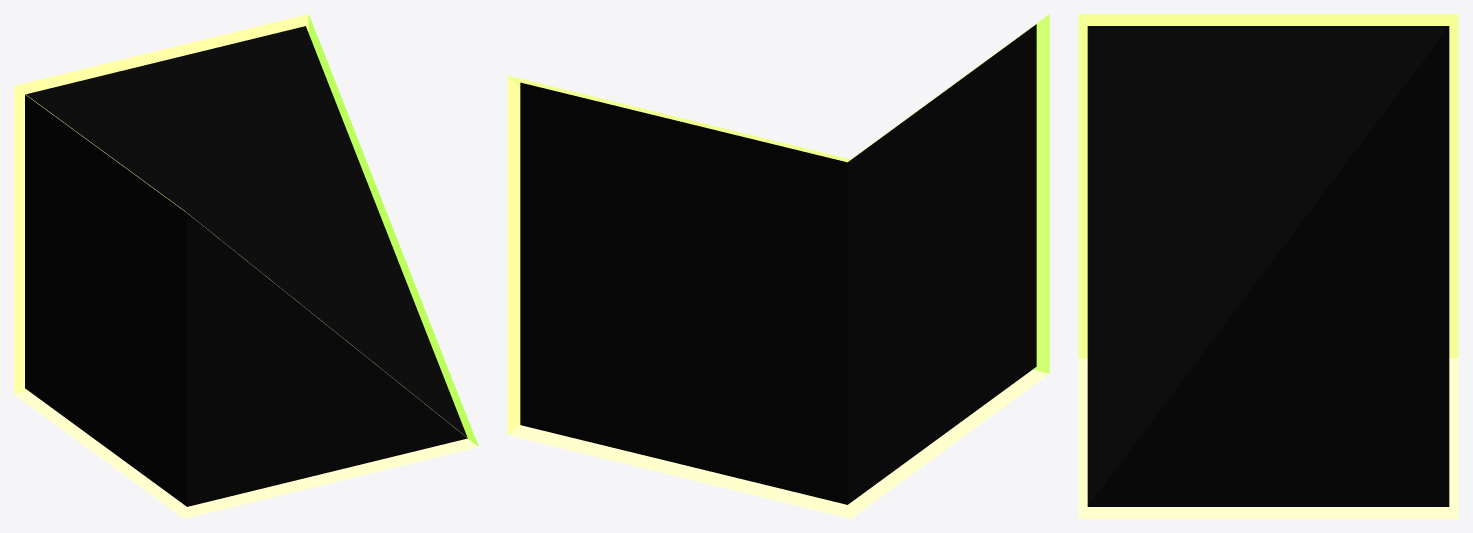
The model's file is 000_backface.glb.
3 renders of one model, left to right at view 1: azimuth 30°, elevation 25°; view 2: azimuth 150°, elevation 25°; view 3: azimuth 270°, elevation 25°, orthographic. The views are drawn at different scales.
Visible parts, largest first — view 1: 00_body_black, 00_body_black.001; view 2: 00_body_black, 00_body_black.001; view 3: 00_body_black, 00_body_black.001.
Part boxes in pixels (left/top/right/bottom): 00_body_black: left=25, top=26, right=467, bottom=506; 00_body_black.001: left=14, top=14, right=478, bottom=518; 00_body_black: left=520, top=24, right=1036, bottom=504; 00_body_black.001: left=507, top=14, right=1049, bottom=518; 00_body_black: left=1087, top=26, right=1449, bottom=506; 00_body_black.001: left=1078, top=14, right=1458, bottom=518.
Bounding box in the file's own units: 2.1 × 2.1 × 2.1.
2 materials, 1 textured.
